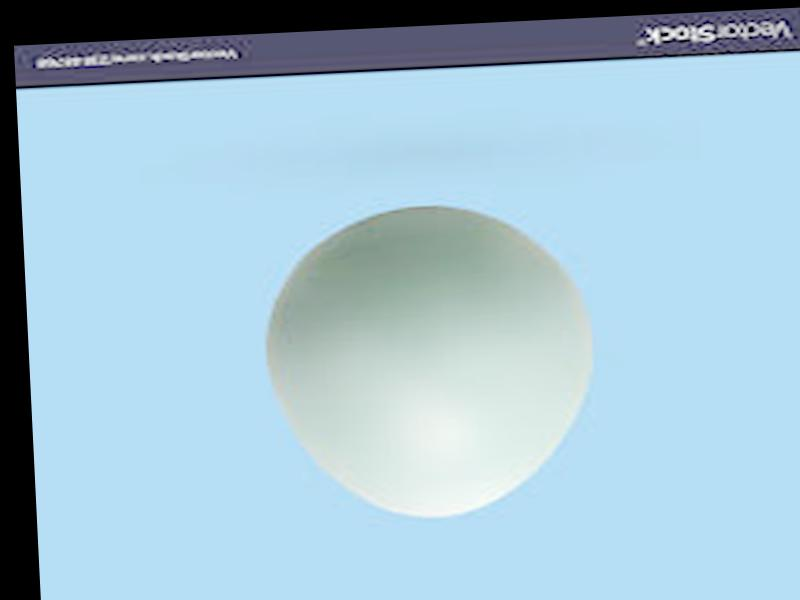Eggs: (255, 200, 599, 525)
